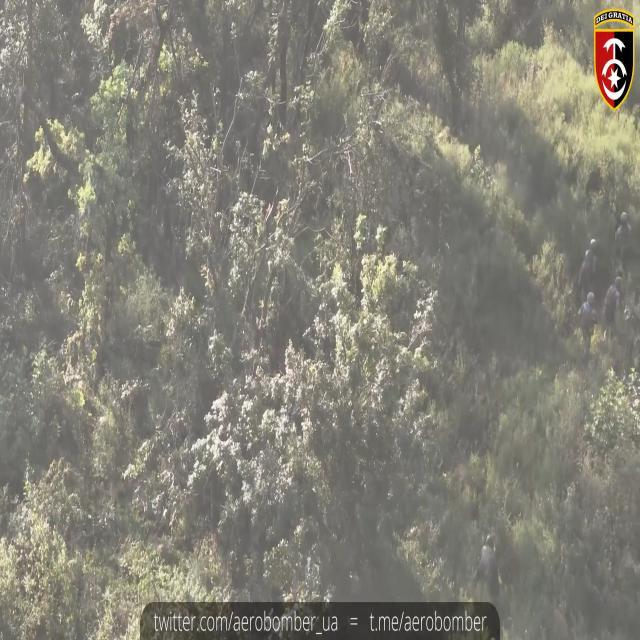MIL_Pax: (478, 536, 499, 604), (579, 291, 596, 356), (579, 238, 596, 302), (602, 276, 621, 333), (616, 211, 631, 248)
